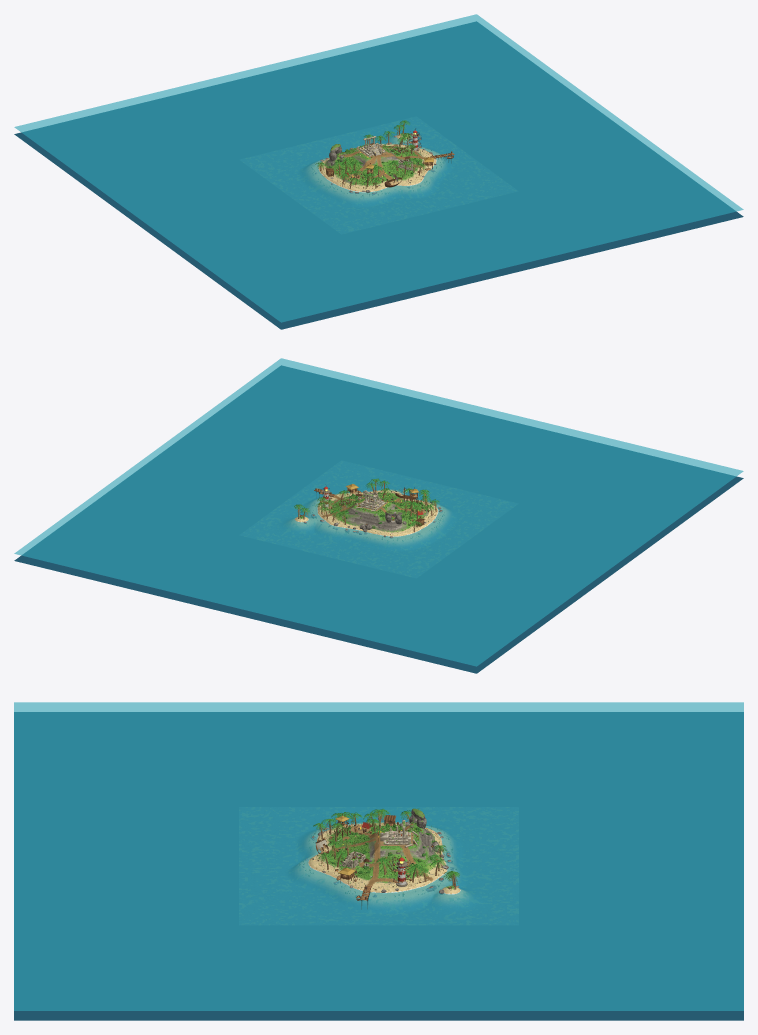
The model's file is treasure_cove.glb.
The picture shows the model from 3 angles, top to bottom: view 1: azimuth 30°, elevation 25°; view 2: azimuth 150°, elevation 25°; view 3: azimuth 270°, elevation 25°; orthographic projection. The views are drawn at different scales.
Parts seen in each view (by area): view 1: Water, Seabed, Terrain, Palms, Grass; view 2: Water, Seabed, Terrain, Palms; view 3: Water, Seabed, Terrain, Palms, Grass, Temple_Ruins.
Boxes of the visible parts, x1=… form: Water: x1=14, y1=14, x2=743, y2=322; Seabed: x1=14, y1=21, x2=743, y2=329; Terrain: x1=240, y1=116, x2=517, y2=234; Palms: x1=315, y1=120, x2=425, y2=188; Grass: x1=325, y1=133, x2=421, y2=185; Water: x1=14, y1=358, x2=743, y2=666; Seabed: x1=14, y1=365, x2=743, y2=673; Terrain: x1=240, y1=460, x2=517, y2=578; Palms: x1=294, y1=478, x2=439, y2=532; Water: x1=14, y1=702, x2=743, y2=1010; Seabed: x1=14, y1=712, x2=743, y2=1020; Terrain: x1=239, y1=807, x2=518, y2=924; Palms: x1=313, y1=809, x2=459, y2=889; Grass: x1=324, y1=822, x2=453, y2=887; Temple_Ruins: x1=378, y1=820, x2=417, y2=847.
Bounding box in the file's own units: 240 × 15.6 × 240.
